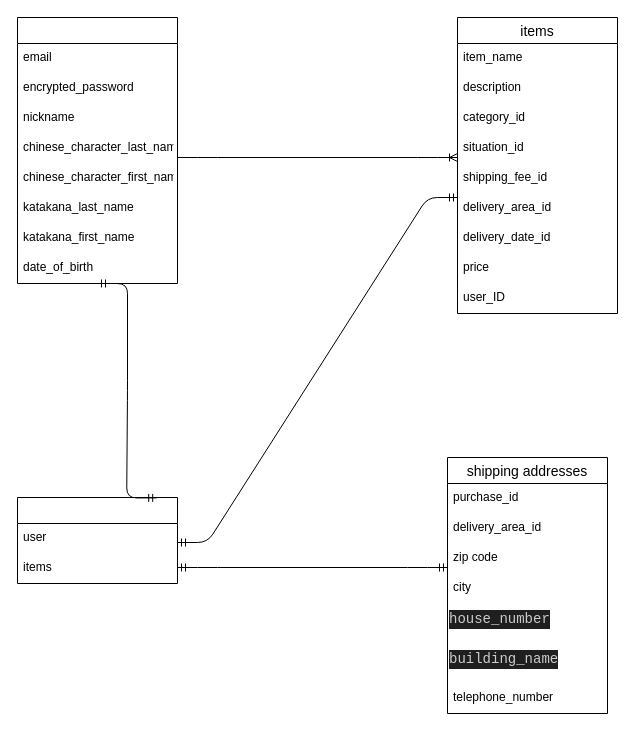
This 635x734 diagram has some shape labels left out. Here are the shapes that lost their labels. From the top down, the box of each, then its label:
(16, 16, 178, 284): users
(16, 496, 178, 584): purchases
